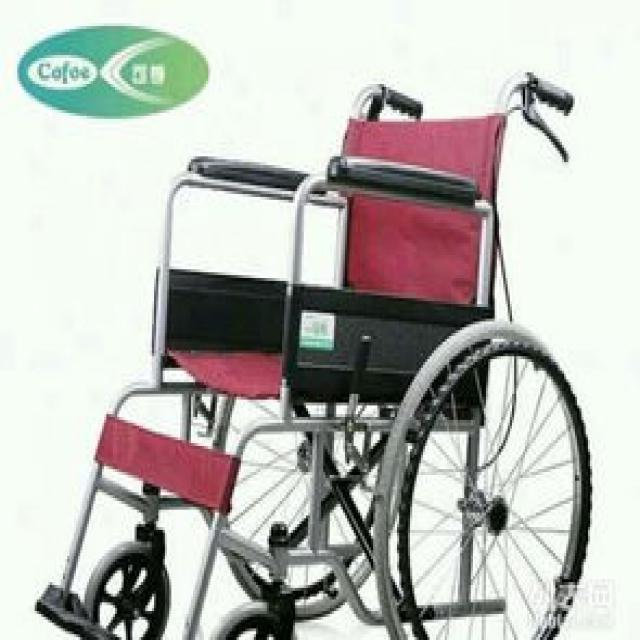wheelchair: (37, 52, 612, 637)
